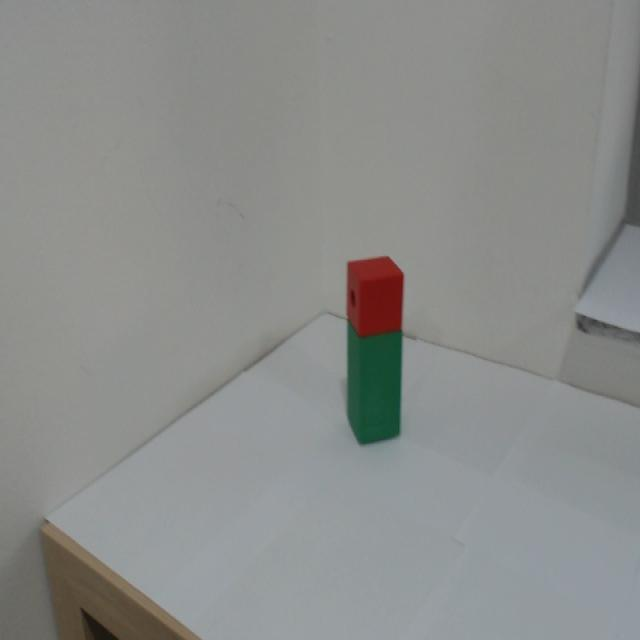cube: (329, 237, 411, 338)
